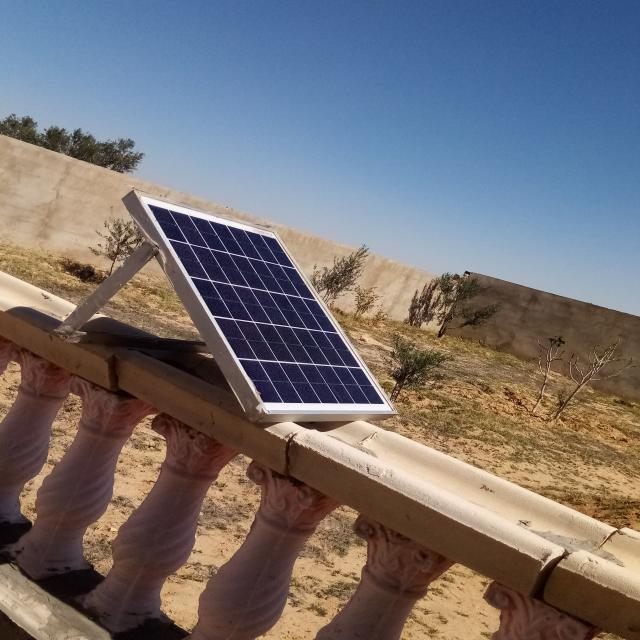no faulty: (139, 197, 392, 412)
